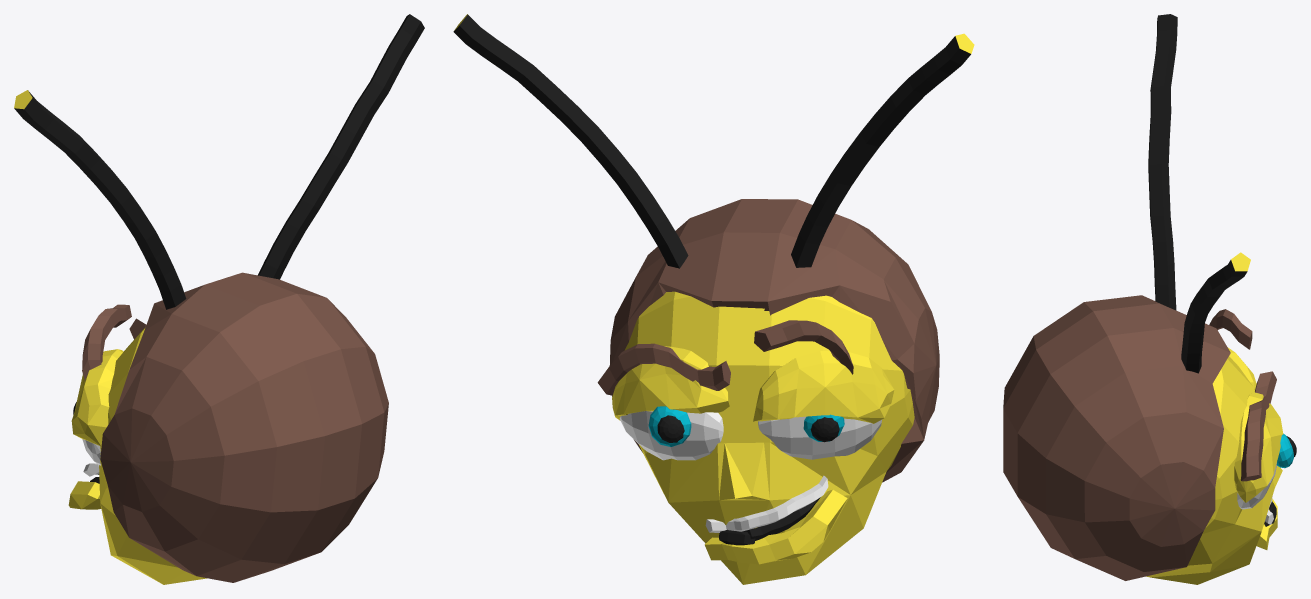
The picture shows the model from 3 angles, left to right: view 1: azimuth 30°, elevation 25°; view 2: azimuth 150°, elevation 25°; view 3: azimuth 270°, elevation 25°; orthographic projection. The views are drawn at different scales.
Visible parts, largest first — view 1: mesh_1194232168, group_2048076519, group_791888316, mesh_372183592, mesh_831228472, group_384497029, group_1459341600; view 2: mesh_372183592, mesh_1194232168, group_2048076519, mesh_831228472, group_791888316, group_1459341600, mesh_1834215266, mesh_298785364, mesh_75752921, group_261482085, group_384497029, group_435181068; view 3: mesh_1194232168, mesh_372183592, group_791888316, group_2048076519, mesh_1834215266, group_261482085, group_384497029, group_1459341600, group_435181068.
Part boxes in pixels (x1,y1,x2,y2): mesh_1194232168: (100,272,388,582); group_2048076519: (258,14,424,279); group_791888316: (14,90,186,309); mesh_372183592: (99,327,206,584); mesh_831228472: (71,349,123,446); group_384497029: (82,304,131,380); group_1459341600: (68,463,101,509); mesh_372183592: (624,291,914,584); mesh_1194232168: (609,199,939,482); group_2048076519: (453,14,688,268); mesh_831228472: (753,351,894,423); group_791888316: (791,33,974,267); group_1459341600: (704,475,847,564); mesh_1834215266: (612,346,729,420); mesh_298785364: (758,416,881,459); mesh_75752921: (619,411,723,460); group_261482085: (597,343,730,395); group_384497029: (754,320,853,374); group_435181068: (648,406,691,446); mesh_1194232168: (1003,295,1230,580); mesh_372183592: (1146,356,1282,584); group_791888316: (1148,14,1177,310); group_2048076519: (1181,252,1250,373); mesh_1834215266: (1234,392,1283,502); group_261482085: (1241,371,1276,481); group_384497029: (1209,309,1252,349); group_1459341600: (1256,496,1277,549); group_435181068: (1276,433,1296,468).
Bounding box in the file's own units: 37.35 × 42.42 × 23.16.
